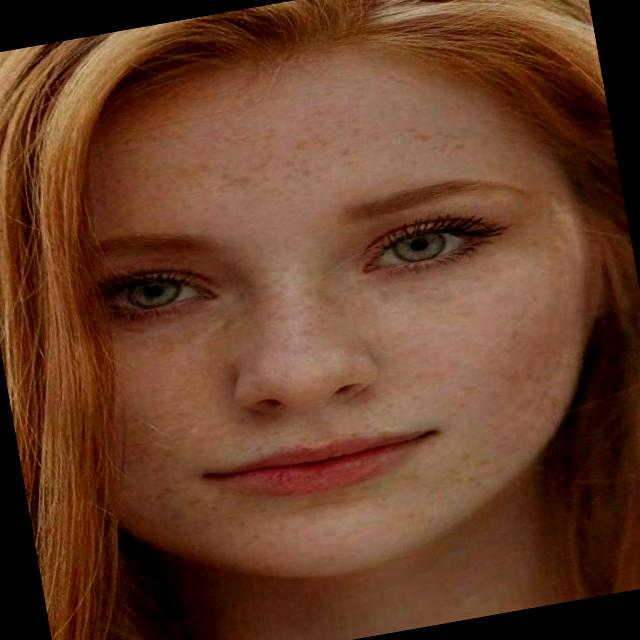freckle: (105, 243, 587, 537), (99, 98, 495, 228)
